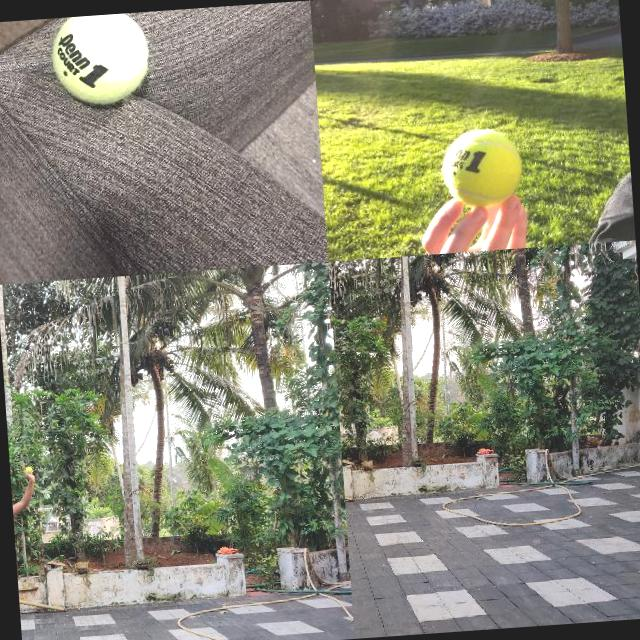Tennis Ball: (48, 11, 152, 108), (437, 124, 524, 210), (26, 466, 33, 474)
